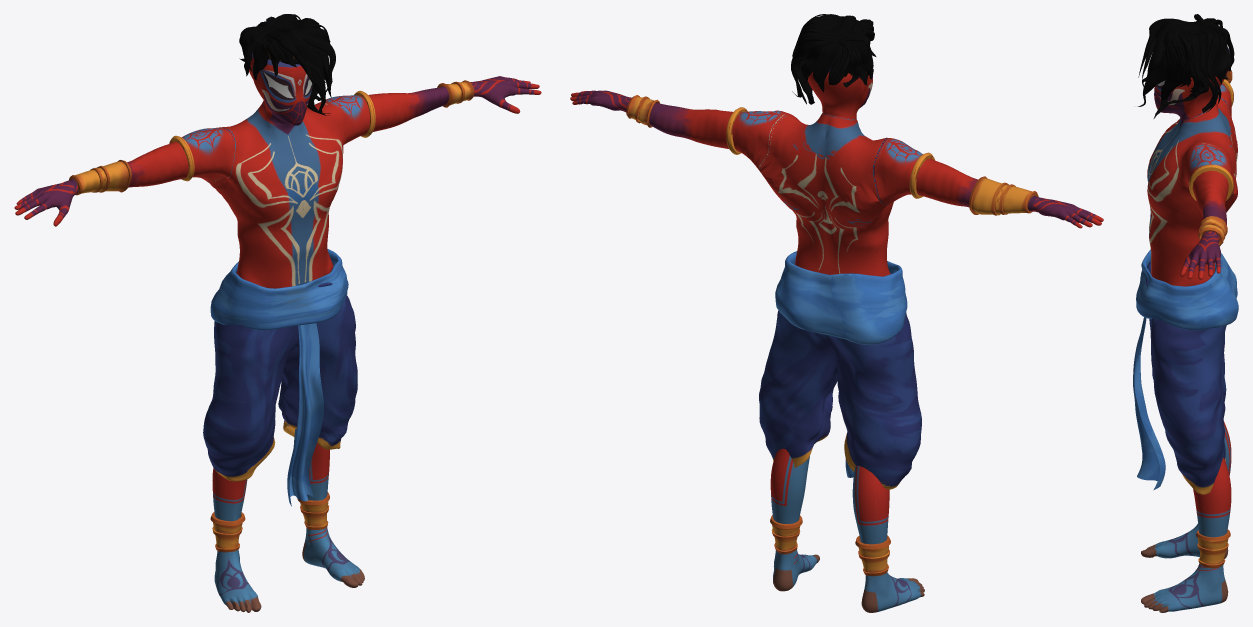
Rendered from india-spider.glb.
3 renders of one model, left to right at view 1: azimuth 30°, elevation 25°; view 2: azimuth 150°, elevation 25°; view 3: azimuth 270°, elevation 25°, orthographic.
Visible parts, largest first — view 1: Object_9, dhoti_dhoti_0_94, belt.001_belt_0_97, Object_11, belt_belt_0_99, Object_15, Object_13, arm_bangles_0_101; view 2: Object_9, dhoti_dhoti_0_94, belt.001_belt_0_97, Object_11, Object_15, Object_13, arm_bangles_0_101; view 3: Object_9, dhoti_dhoti_0_94, Object_11, belt.001_belt_0_97, belt_belt_0_99, Object_13, arm_bangles_0_101, Object_15.
Boxes of the visible parts, x1=… form: Object_9: x1=14, y1=51, x2=541, y2=612; dhoti_dhoti_0_94: x1=203, y1=282, x2=357, y2=481; belt.001_belt_0_97: x1=210, y1=249, x2=348, y2=330; Object_11: x1=239, y1=14, x2=335, y2=115; belt_belt_0_99: x1=287, y1=323, x2=323, y2=506; Object_15: x1=69, y1=80, x2=474, y2=195; Object_13: x1=210, y1=492, x2=329, y2=552; arm_bangles_0_101: x1=169, y1=90, x2=375, y2=181; Object_9: x1=570, y1=69, x2=1103, y2=612; dhoti_dhoti_0_94: x1=759, y1=273, x2=921, y2=489; belt.001_belt_0_97: x1=775, y1=251, x2=907, y2=344; Object_11: x1=791, y1=14, x2=876, y2=104; Object_15: x1=626, y1=95, x2=1038, y2=215; Object_13: x1=770, y1=515, x2=890, y2=576; arm_bangles_0_101: x1=726, y1=107, x2=934, y2=198; Object_9: x1=1141, y1=26, x2=1237, y2=612; dhoti_dhoti_0_94: x1=1146, y1=261, x2=1226, y2=494; Object_11: x1=1137, y1=14, x2=1234, y2=118; belt.001_belt_0_97: x1=1136, y1=249, x2=1238, y2=330; belt_belt_0_99: x1=1133, y1=317, x2=1165, y2=490; Object_13: x1=1196, y1=529, x2=1230, y2=568; arm_bangles_0_101: x1=1188, y1=79, x2=1233, y2=200; Object_15: x1=1198, y1=71, x2=1232, y2=246.
Bounding box in the file's own units: 1.78 × 1.82 × 0.3135.
9 materials, 9 textured.
